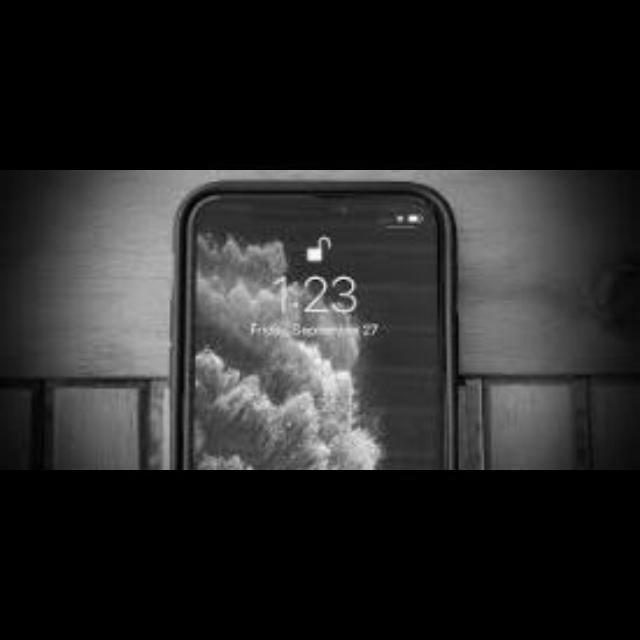fake: (171, 181, 453, 477)
